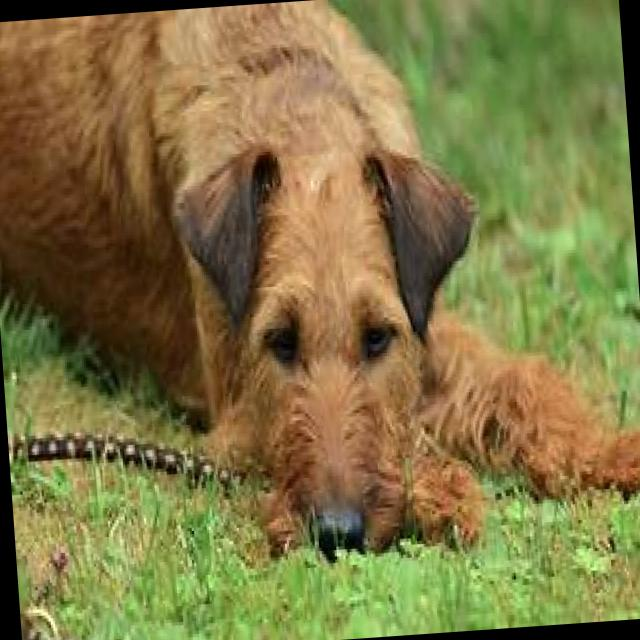animal: (0, 0, 640, 584)
